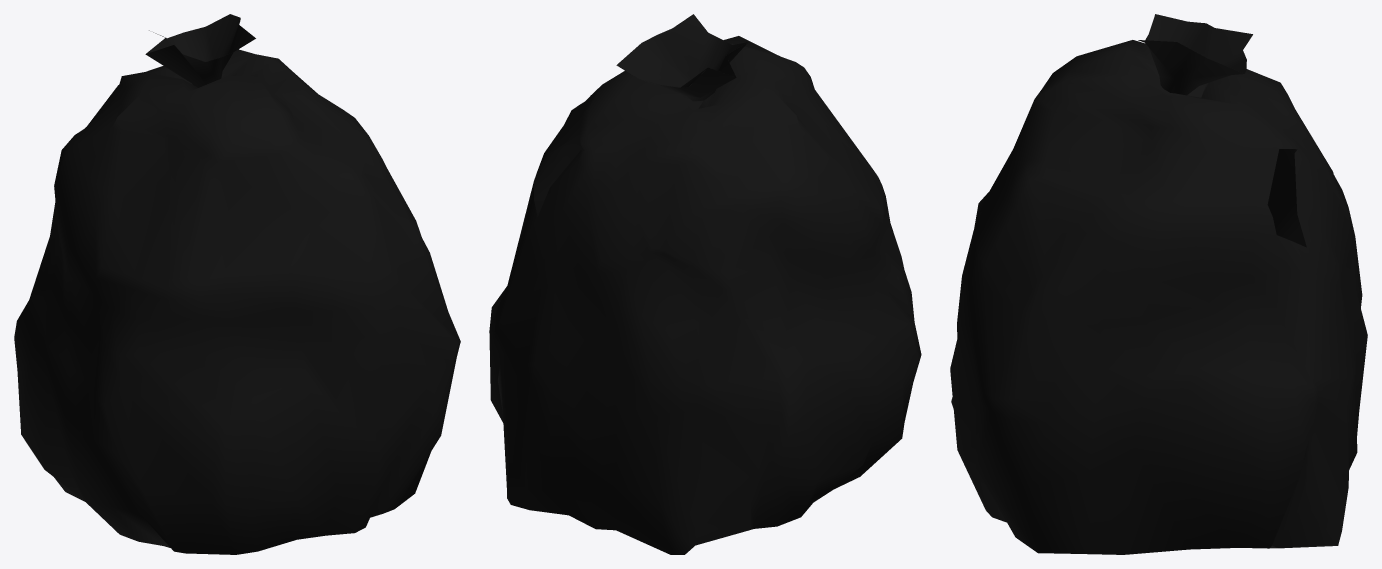
File: trash.fbx
3 views of the same model, side by side, from view 1: azimuth 30°, elevation 25°; view 2: azimuth 150°, elevation 25°; view 3: azimuth 270°, elevation 25° (orthographic). The views are drawn at different scales.
Parts seen in each view (by area): view 1: Trashbag'; view 2: Trashbag'; view 3: Trashbag'.
Part boxes in pixels (left/top/right/bottom): Trashbag': left=14, top=14, right=460, bottom=554; Trashbag': left=489, top=14, right=921, bottom=554; Trashbag': left=950, top=14, right=1367, bottom=554.
Size of the model in its own units: 537 by 688 by 556.
